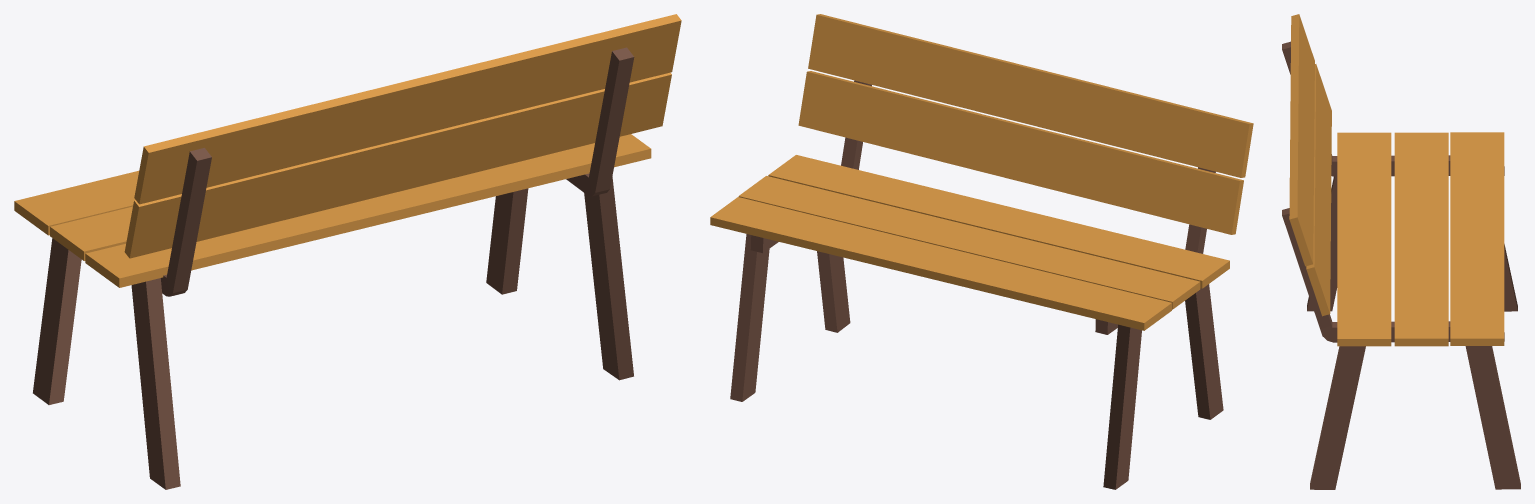
Rendered from env_28.glb.
The picture shows the model from 3 angles, left to right: view 1: azimuth 30°, elevation 25°; view 2: azimuth 150°, elevation 25°; view 3: azimuth 270°, elevation 25°; orthographic projection. The views are drawn at different scales.
Visible parts, largest first — view 1: Node; view 2: Node; view 3: Node.
Boxes of the visible parts, x1,y1,x2,y2 form: Node: (14, 14, 681, 489); Node: (710, 14, 1253, 489); Node: (1282, 14, 1520, 489).
Bounding box in the file's own units: 0.9781 × 0.6313 × 0.4773.
